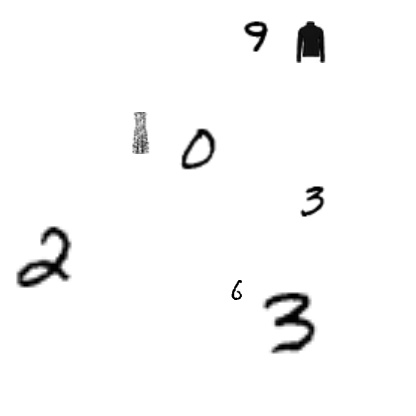0: (170, 121, 226, 177)
2: (5, 218, 89, 302)
3: (248, 278, 332, 362), (293, 179, 335, 221)
6: (222, 277, 250, 305)
9: (235, 11, 277, 53)
Dress: (119, 112, 161, 154)
Pullover: (289, 21, 331, 63)
